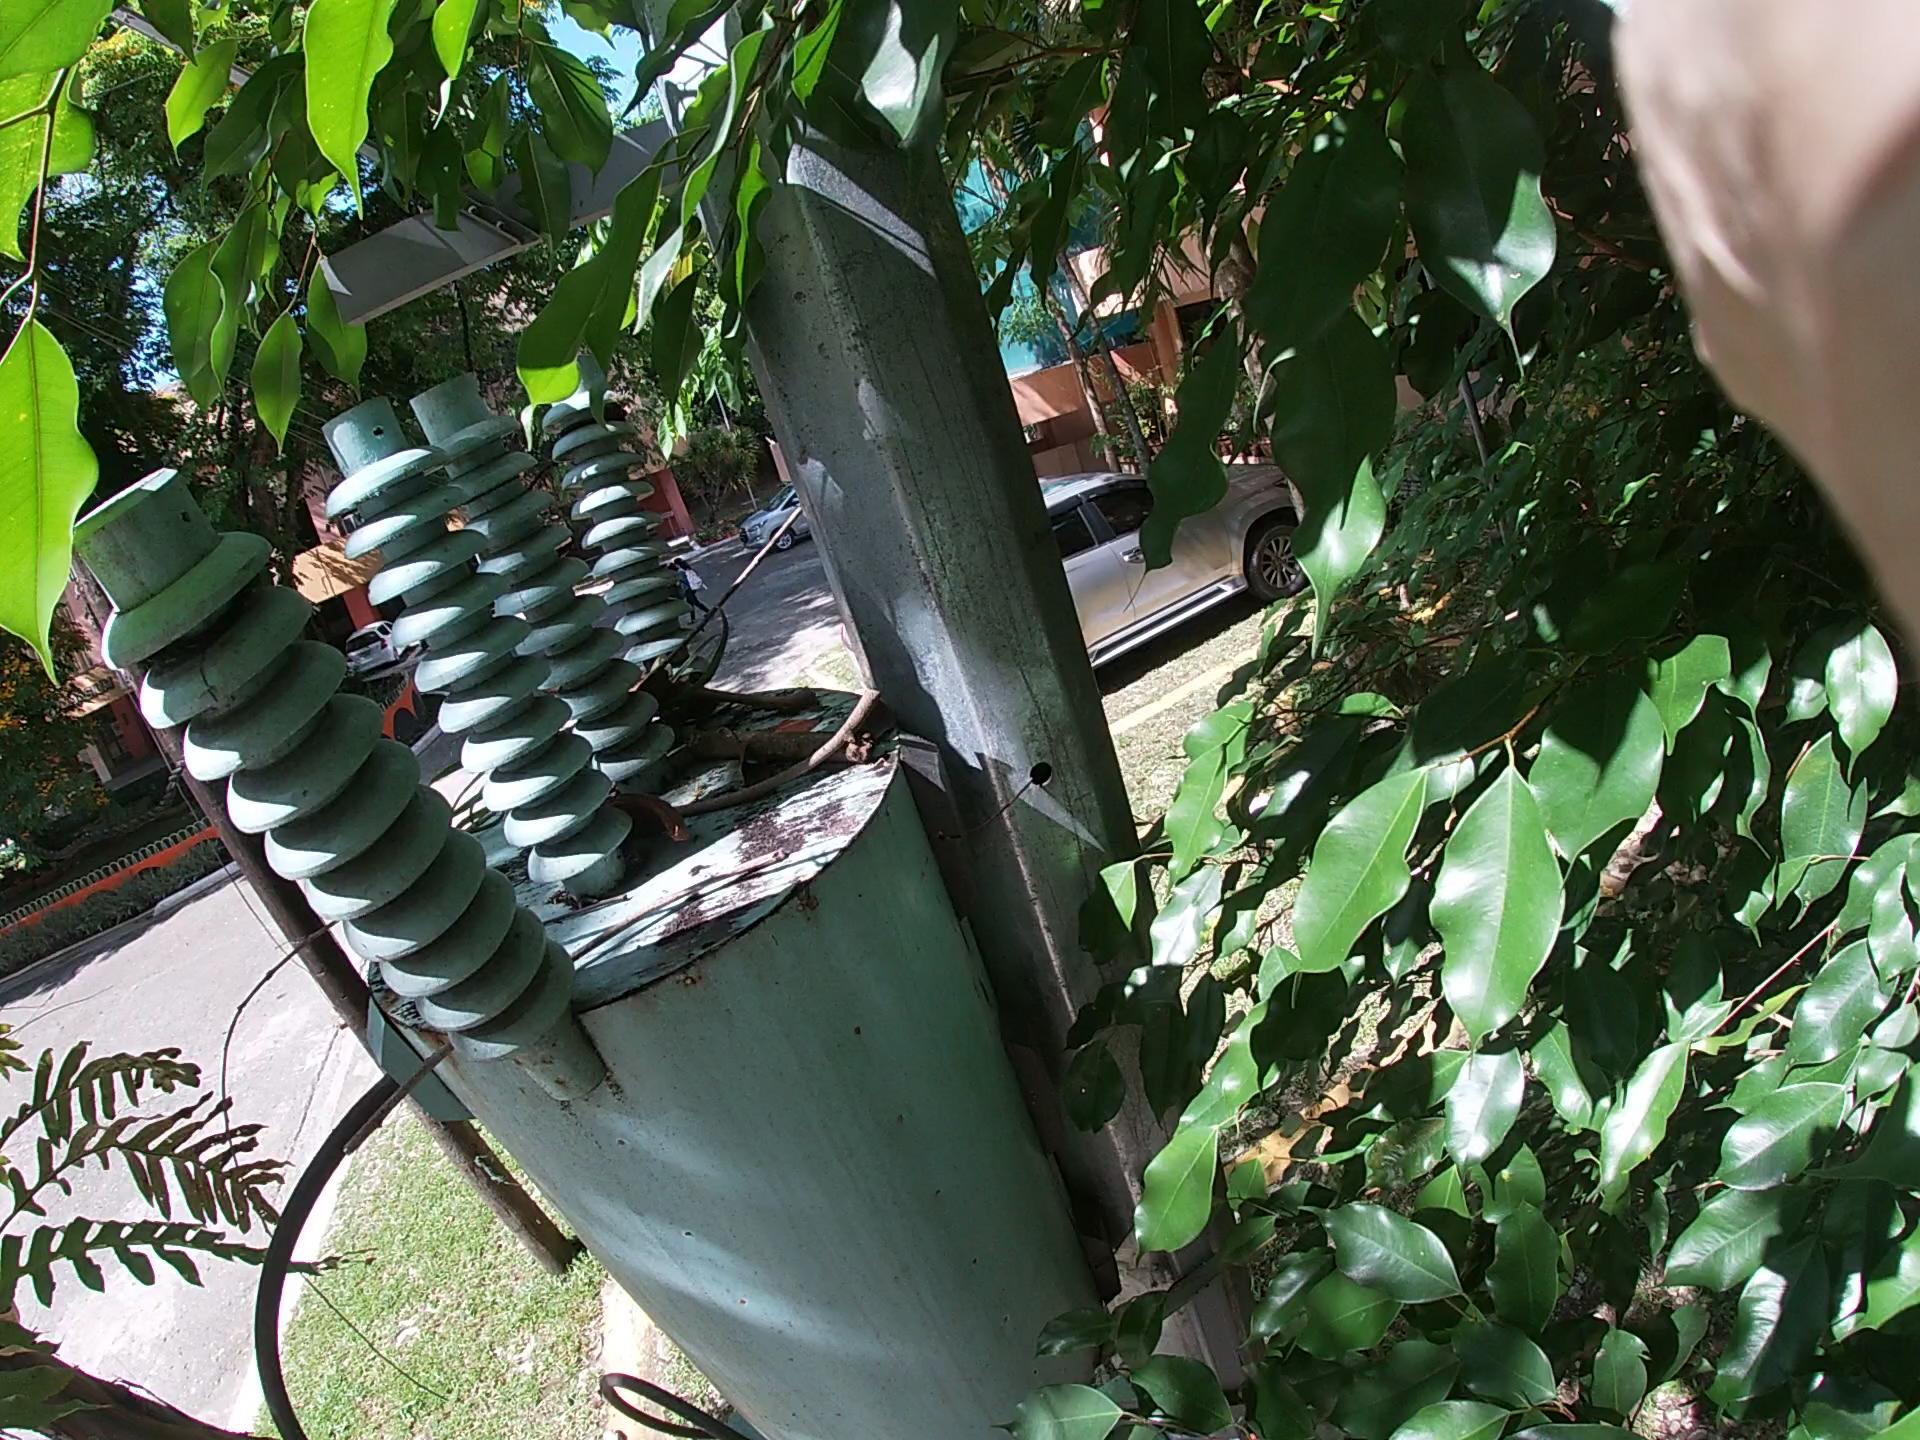branch with leaves: (599, 517, 739, 740)
leaf: (751, 684, 859, 755)
mahogany fruit: (541, 750, 739, 870)
tree branch: (358, 846, 874, 1190), (437, 464, 853, 861), (677, 649, 835, 812)
